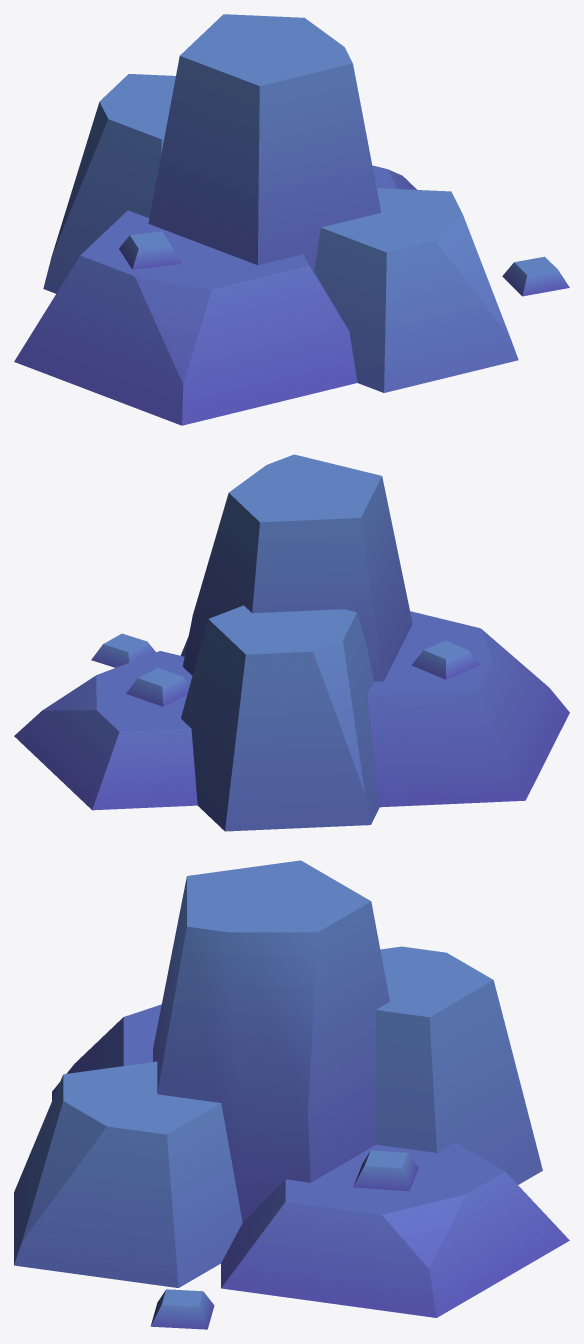
The model's file is pedra 2 azul.glb.
The picture shows the model from 3 angles, top to bottom: view 1: azimuth 30°, elevation 25°; view 2: azimuth 150°, elevation 25°; view 3: azimuth 270°, elevation 25°; orthographic projection. The views are drawn at different scales.
Parts seen in each view (by area): view 1: rock-b; view 2: rock-b; view 3: rock-b.
Boxes of the visible parts, x1,y1,x2,y2 form: rock-b: (14,14,569,425); rock-b: (14,454,569,831); rock-b: (14,860,569,1329).
Size of the model in its own units: 0.8346 by 0.4186 by 0.7247.
1 material, 1 textured.
